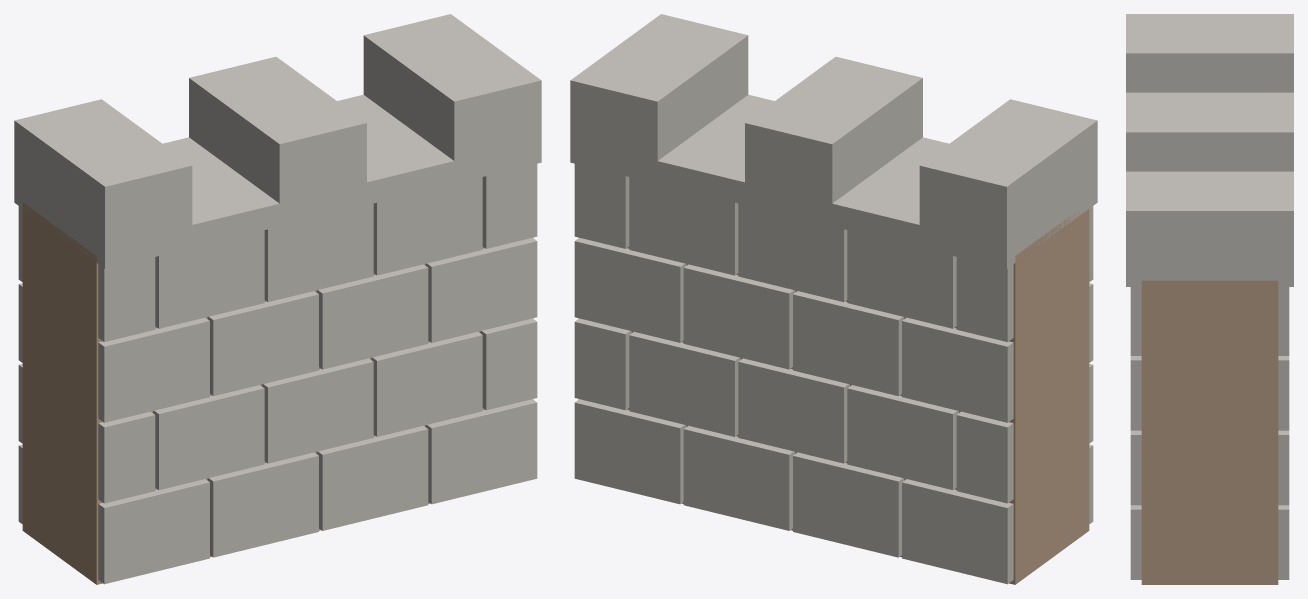
The model's file is wall.glb.
The picture shows the model from 3 angles, left to right: view 1: azimuth 30°, elevation 25°; view 2: azimuth 150°, elevation 25°; view 3: azimuth 270°, elevation 25°; orthographic projection. The views are drawn at different scales.
Parts seen in each view (by area): view 1: wall_stone, wall_mortar; view 2: wall_stone, wall_mortar; view 3: wall_stone, wall_mortar.
Boxes of the visible parts, <box> form: wall_stone: <box>14,14,541,584</box>; wall_mortar: <box>22,202,484,584</box>; wall_stone: <box>570,14,1097,584</box>; wall_mortar: <box>627,209,1089,584</box>; wall_stone: <box>1126,14,1293,579</box>; wall_mortar: <box>1141,280,1278,584</box>.
Bounding box in the file's own units: 1 × 0.885 × 0.36.
